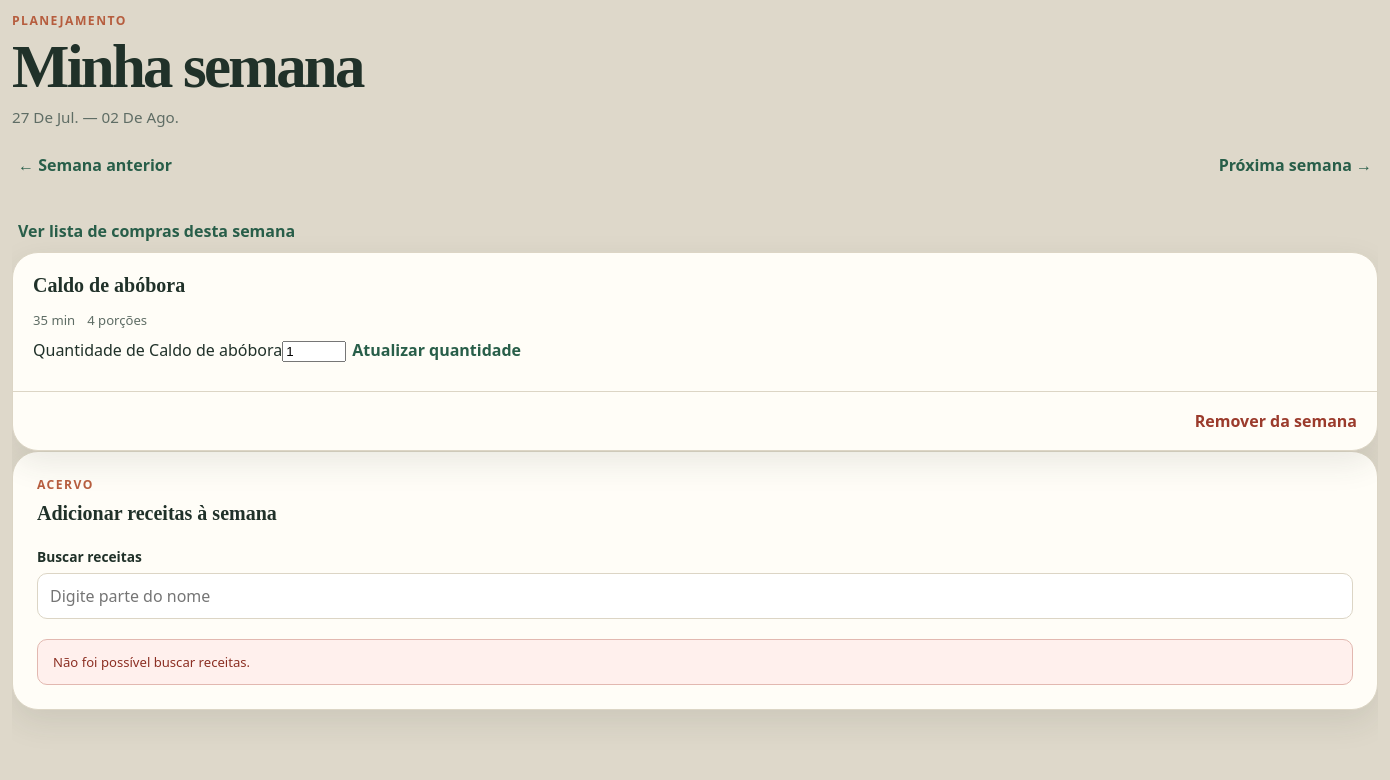
Test case: WeeklyPlanPage › invalidates the original week when navigation happens during a removal
This screenshot has width=1390, height=780.
Click the button "Remover da semana". click: (1276, 421)
box: 1189,400 -> 1363,442
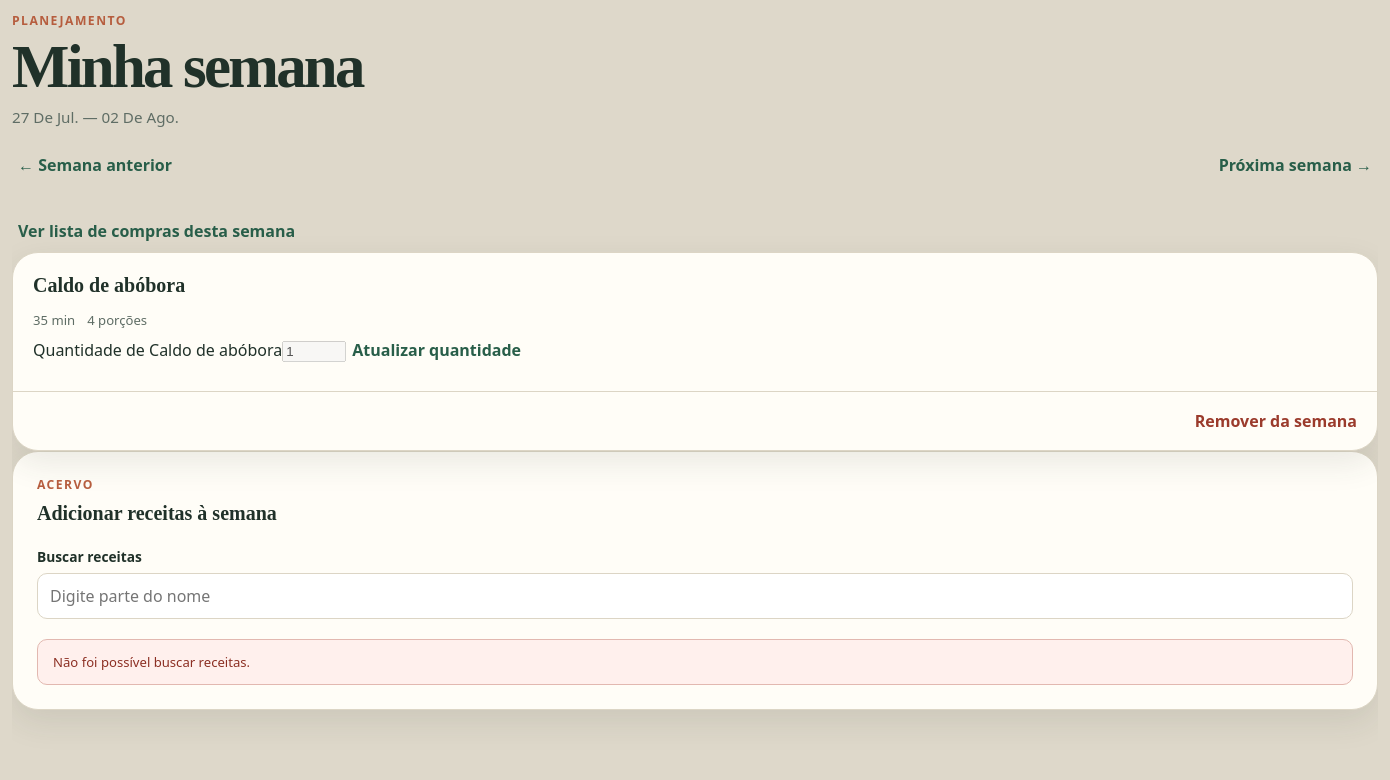
Click the button "Próxima semana →". click: (1295, 165)
box: 1213,144 -> 1378,186
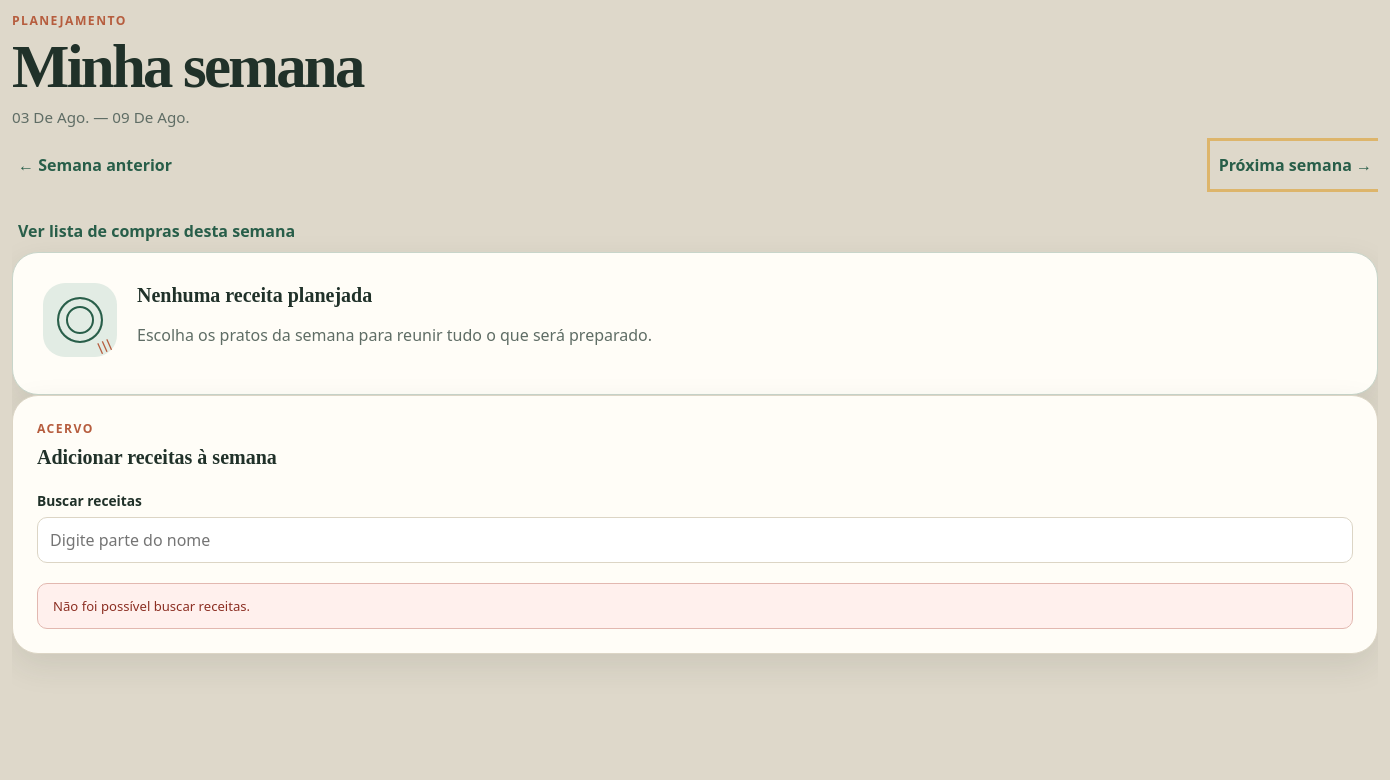
Check: the heading "Nenhuma receita planejada" is shown, box 137,284 -> 372,306
